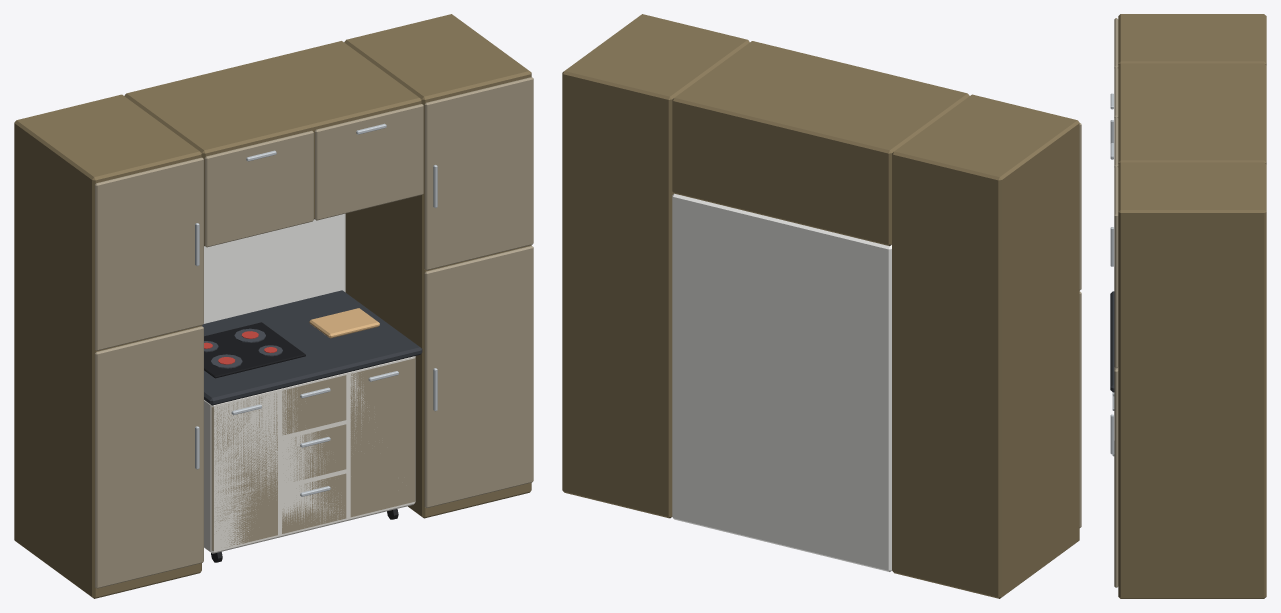
File: movable_island_wall.glb
3 renders of one model, left to right at view 1: azimuth 30°, elevation 25°; view 2: azimuth 150°, elevation 25°; view 3: azimuth 270°, elevation 25°, orthographic. The views are drawn at different scales.
Visible parts, largest first — view 1: movable_island_wall_Body; view 2: movable_island_wall_Body; view 3: movable_island_wall_Body.
Part boxes in pixels (bbox=[...]): movable_island_wall_Body: bbox=[14, 14, 533, 598]; movable_island_wall_Body: bbox=[562, 14, 1081, 598]; movable_island_wall_Body: bbox=[1110, 14, 1266, 598].
Bounding box in the file's own units: 2.4 × 2.2 × 0.8.
